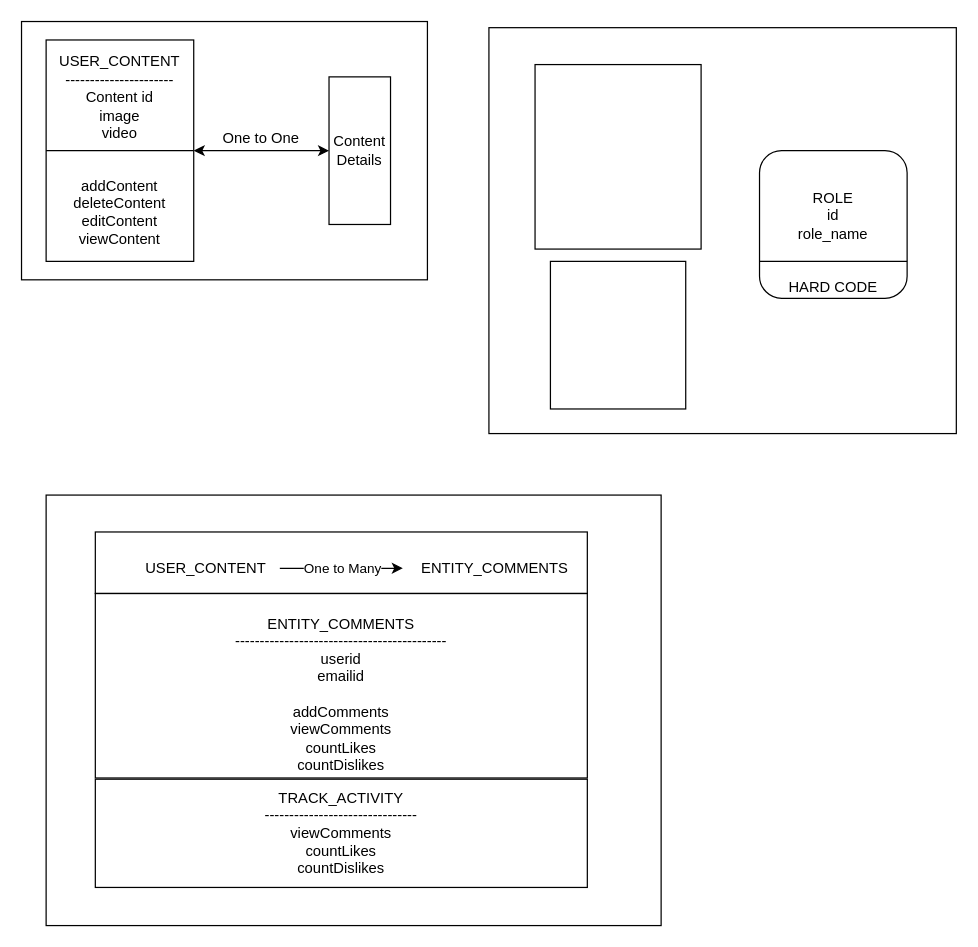
Some shapes in this 978 by 947 pixel diagram are drawn without their labels. Here are the shapes that lost their labels. From the top down, the box of each, then its label:
(534, 63, 701, 249): USER ------------------- userid name email bio password gender state
(549, 260, 686, 409): login register addUser deleteUser editUser viewUser
